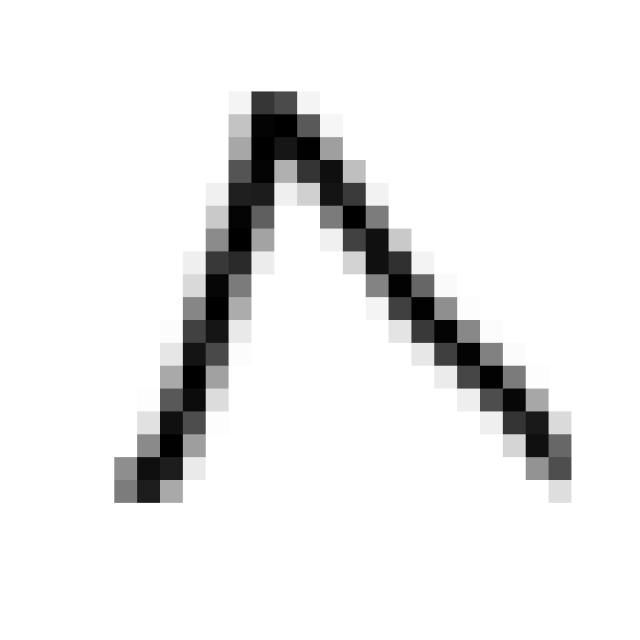8 -eight-: (87, 69, 590, 516)
